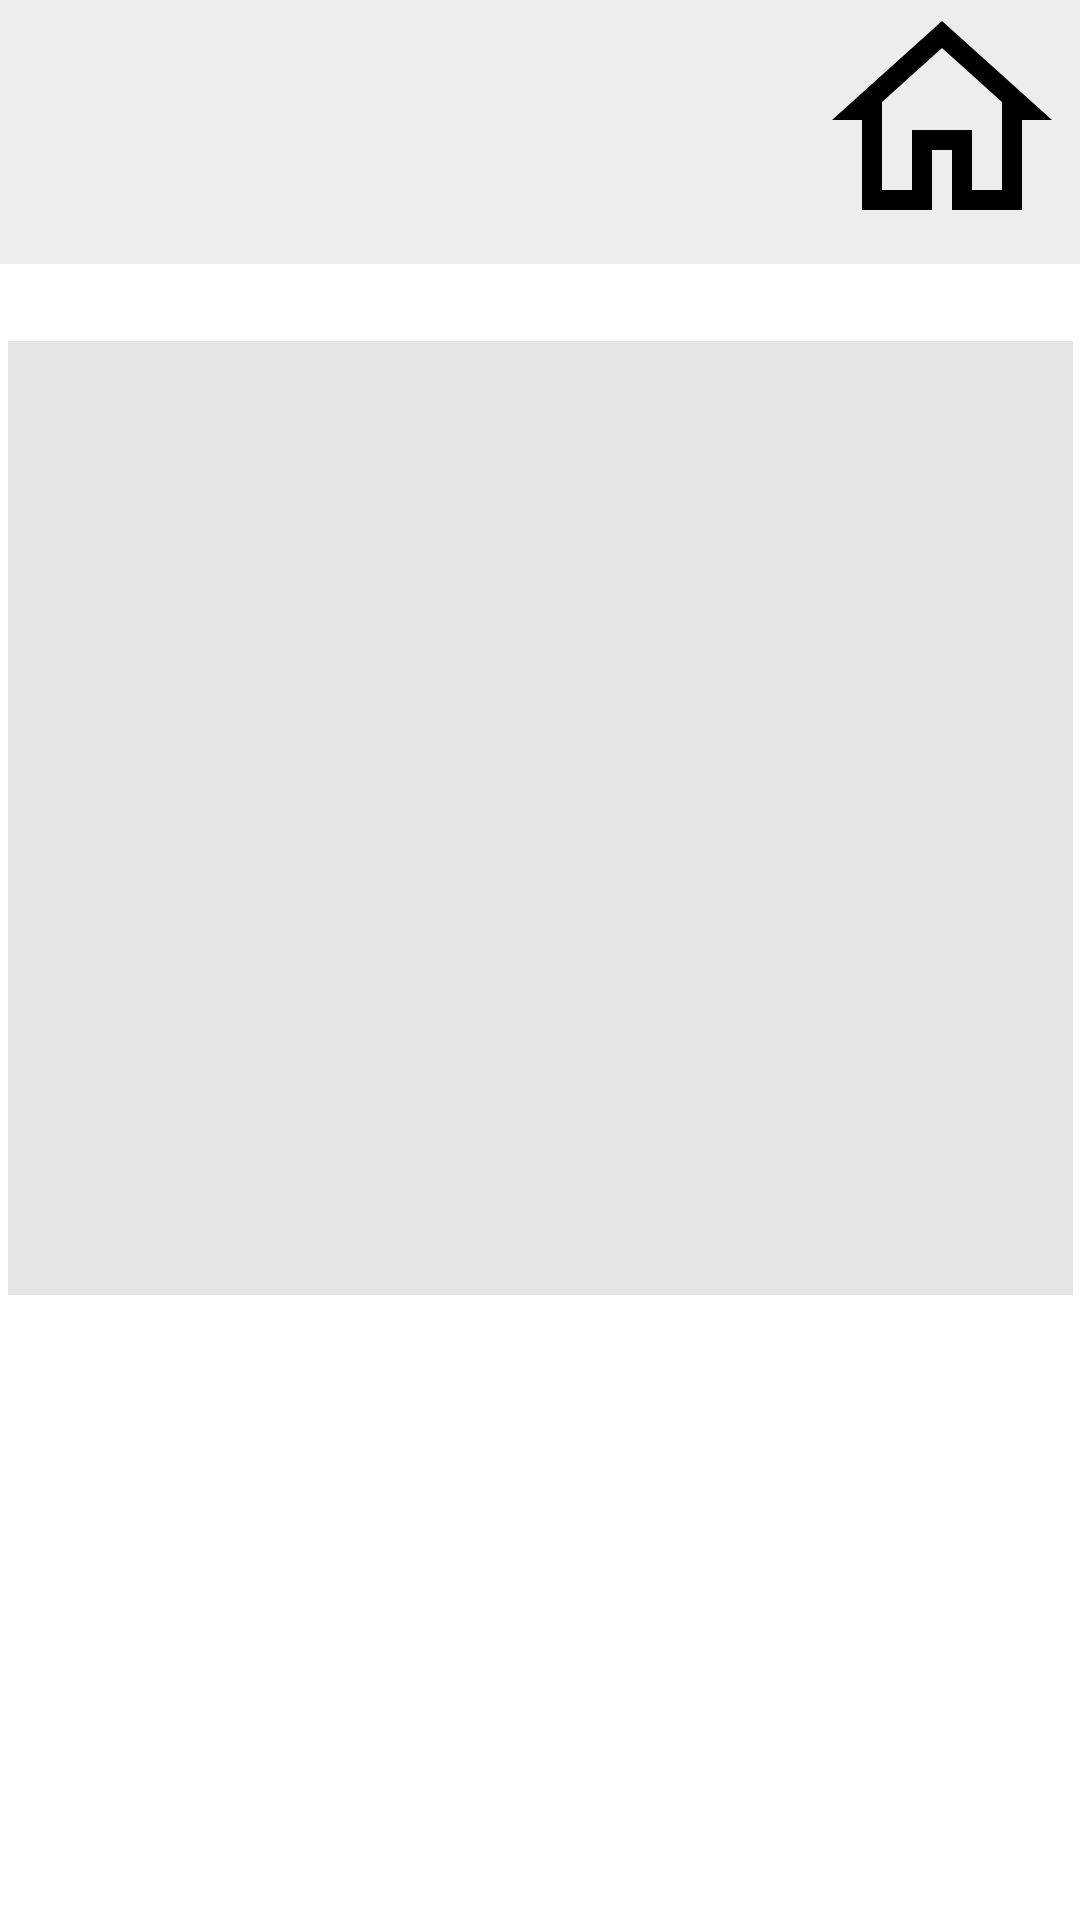

Icon bounding boxes for this 1080x1920 phone screenshot, format bbox=[x1, y1, x2, y2]:
home: bbox=[832, 21, 1052, 210]
